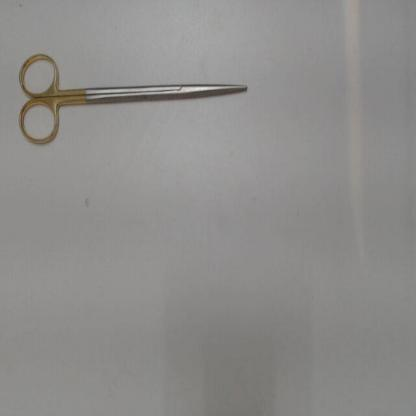7 Metzenbaum Scissors: (16, 49, 248, 149)
